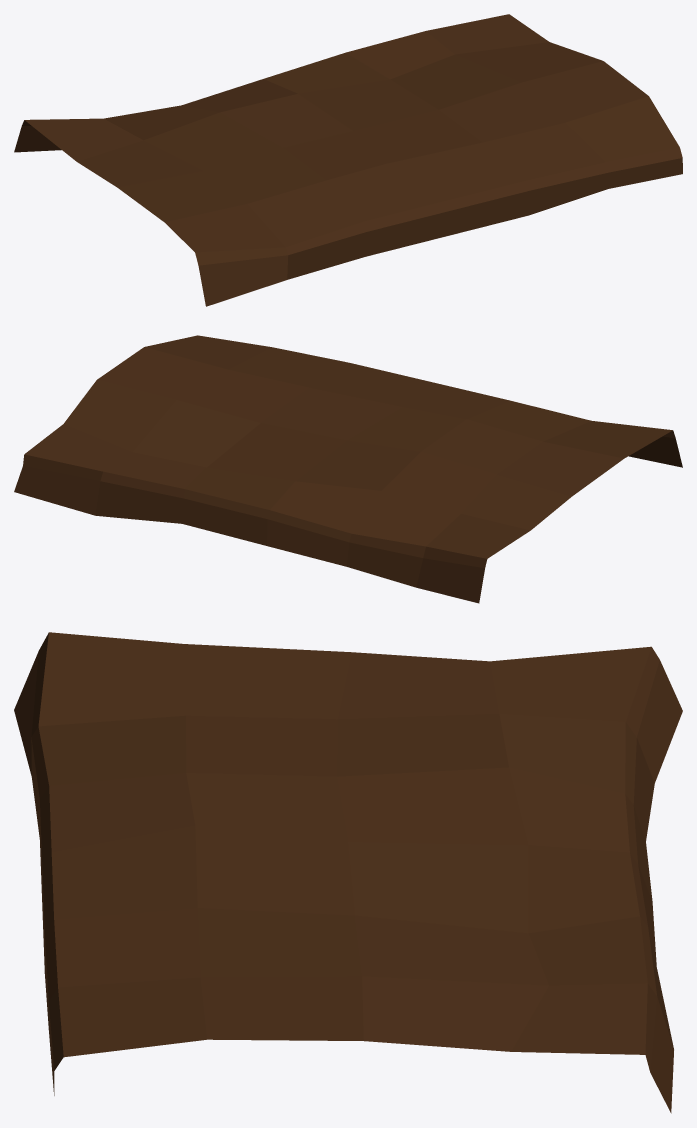
Rendered from RoadDirty_13.fbx.
3 renders of one model, top to bottom at view 1: azimuth 30°, elevation 25°; view 2: azimuth 150°, elevation 25°; view 3: azimuth 270°, elevation 25°, orthographic. The views are drawn at different scales.
Parts seen in each view (by area): view 1: RoadDirty_13; view 2: RoadDirty_13; view 3: RoadDirty_13.
Part boxes in pixels (x1,y1,x2,y2): RoadDirty_13: [14, 14, 682, 306]; RoadDirty_13: [14, 335, 682, 603]; RoadDirty_13: [14, 632, 682, 1113].
Size of the model in its own units: 461 by 44.81 by 320.
